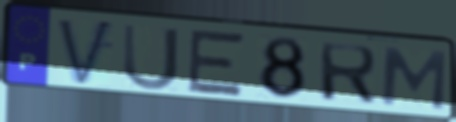8: (254, 35, 309, 102)
E: (185, 27, 249, 99)
M: (378, 45, 449, 113)
R: (316, 41, 380, 108)
U: (121, 22, 182, 93)
V: (54, 16, 117, 90)
